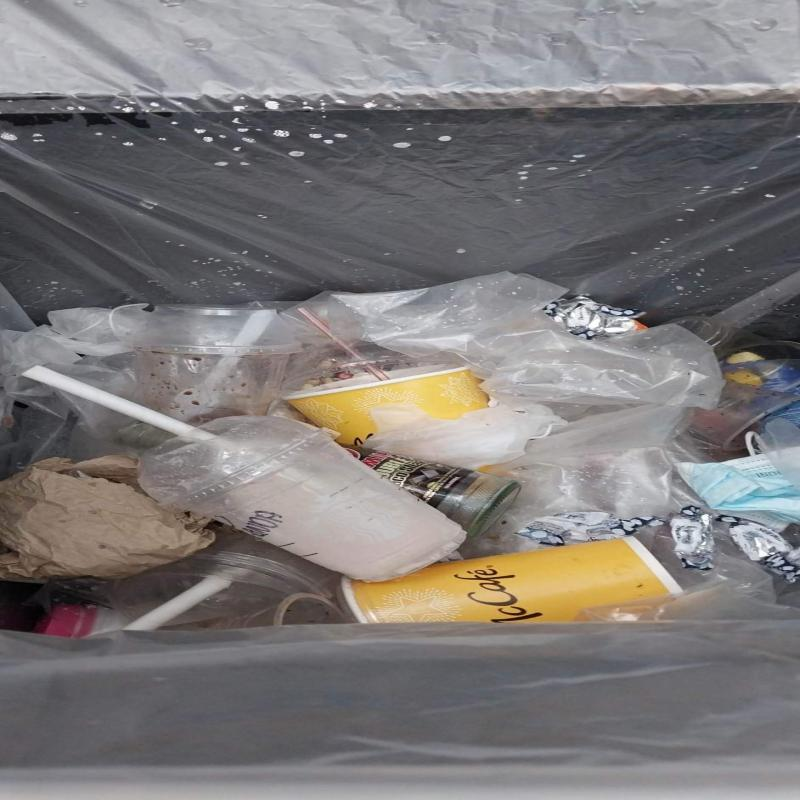facemask: (675, 431, 800, 531)
food wrapper: (714, 514, 800, 582), (515, 511, 669, 544), (541, 297, 645, 340), (670, 506, 716, 572)
glass bottle: (335, 441, 522, 540)
paper: (340, 536, 680, 623), (0, 455, 213, 581), (284, 364, 488, 444)
plastic bag: (233, 274, 726, 467)
plastic container: (138, 415, 465, 583), (112, 532, 339, 627), (128, 304, 303, 427)
plastic straw: (21, 365, 197, 436), (296, 307, 391, 380), (123, 577, 236, 630)
